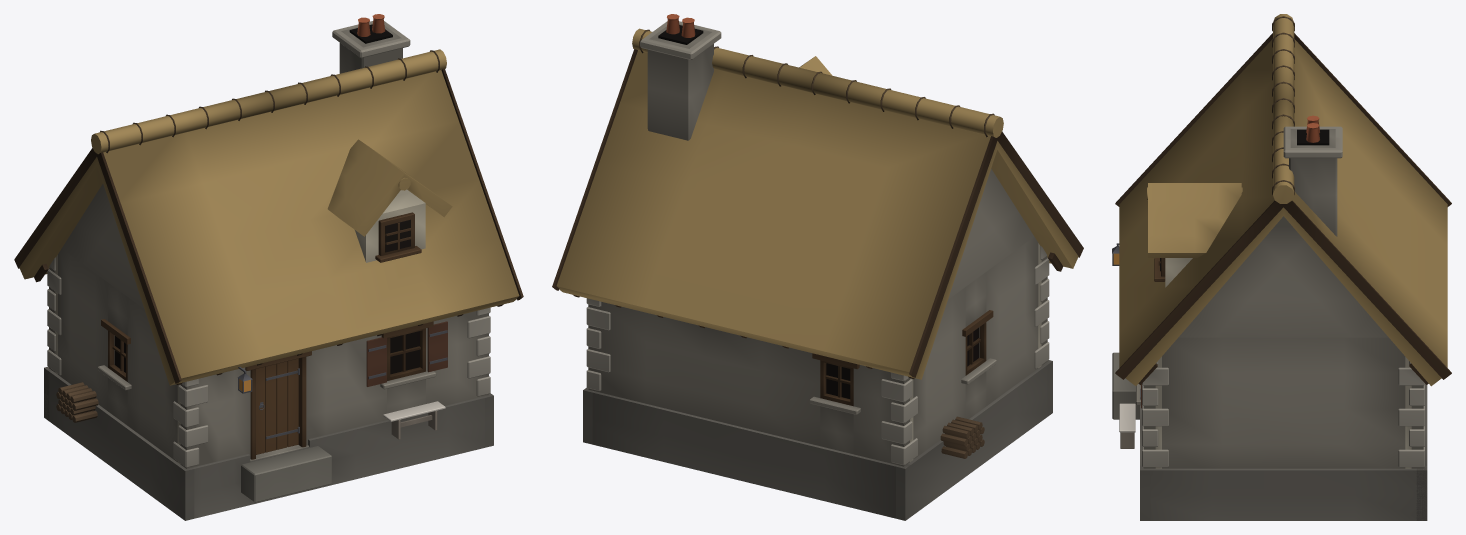
File: cottage.glb
3 renders of one model, left to right at view 1: azimuth 30°, elevation 25°; view 2: azimuth 150°, elevation 25°; view 3: azimuth 270°, elevation 25°, orthographic. The views are drawn at different scales.
Parts seen in each view (by area): view 1: ext, door0; view 2: ext; view 3: ext, int.
Boxes of the visible parts, <box> form: ext: <box>14,14,523,520</box>; door0: <box>256,358,299,454</box>; ext: <box>552,14,1083,520</box>; ext: <box>1112,14,1451,520</box>; int: <box>1155,357,1411,468</box>.
Size of the model in its own units: 7.62 by 7.8 by 6.31.
